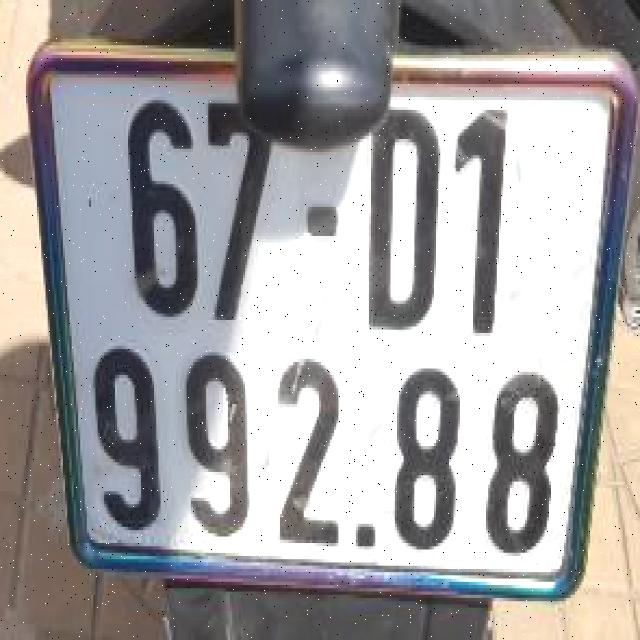1: (456, 94, 520, 342)
2: (267, 325, 349, 554)
6: (119, 78, 202, 326)
7: (202, 75, 288, 326)
8: (472, 358, 567, 566), (386, 350, 464, 558)
9: (82, 338, 174, 541), (176, 334, 260, 544)
D: (357, 94, 446, 349)
